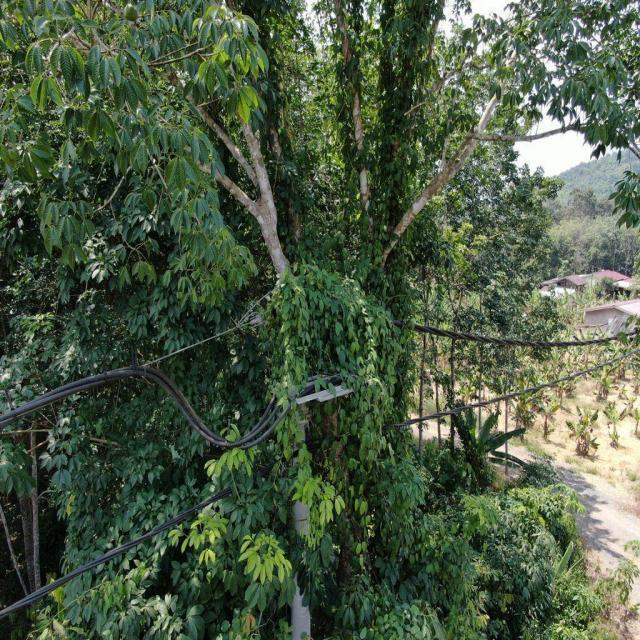critical vegetation: (240, 256, 400, 442)
